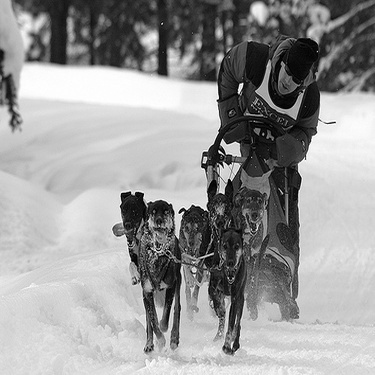dog: (200, 215, 275, 356), (138, 200, 186, 355), (107, 178, 153, 297), (174, 195, 213, 321), (204, 173, 247, 286), (235, 179, 265, 262)
